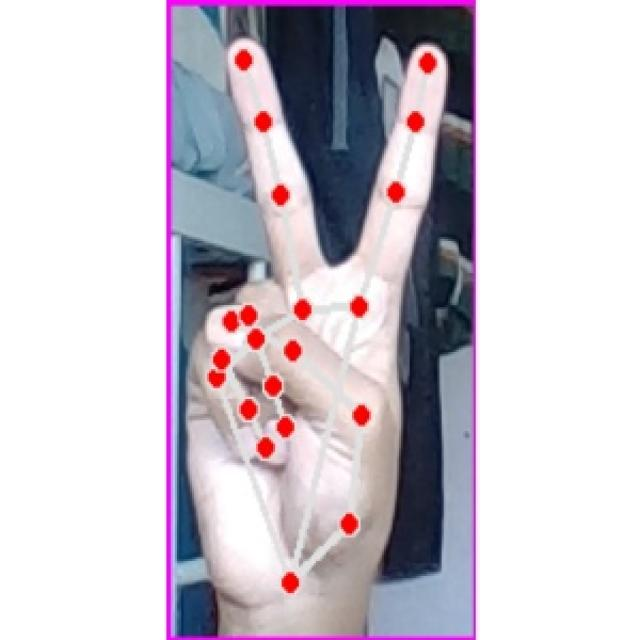V: (182, 29, 455, 606)
